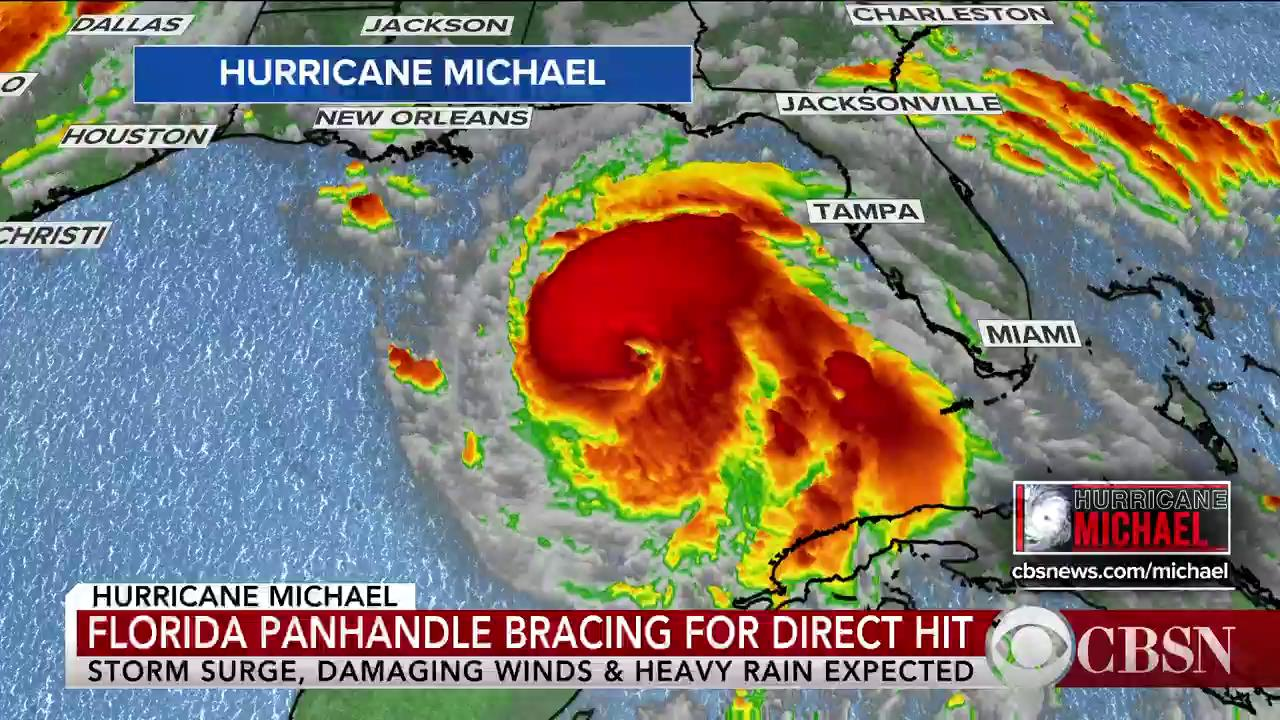CBSN: (1075, 623, 1240, 675)
CHARLESTON: (849, 4, 1050, 23)
CHRISTI: (1, 221, 106, 248)
DALLAS: (72, 12, 184, 32)
FLORIDA PANHANDLE BRACING FOR DIRECT HIT: (85, 612, 977, 653)
HOUSTON: (63, 121, 210, 146)
HURRICANE: (1072, 488, 1227, 511)
HURRICANE MICHAEL: (215, 55, 607, 87), (88, 583, 401, 608)
JACKSON: (365, 14, 510, 32)
JACKSONVILLE: (779, 91, 1000, 111)
MIAMI: (984, 319, 1078, 345)
MICHAEL: (1072, 511, 1211, 548)
NEW ORLEANS: (312, 105, 532, 128)
O: (1, 71, 28, 95)
STORM SURGE__ DAMAGING WINDS & HEAVY RAIN EXPECTED: (85, 655, 976, 684)
TAMPA: (810, 199, 918, 224)
cbsnews.com/michael: (1008, 560, 1229, 582)
